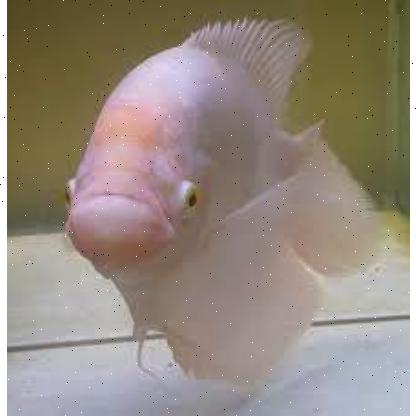gurame: (60, 24, 358, 376)
